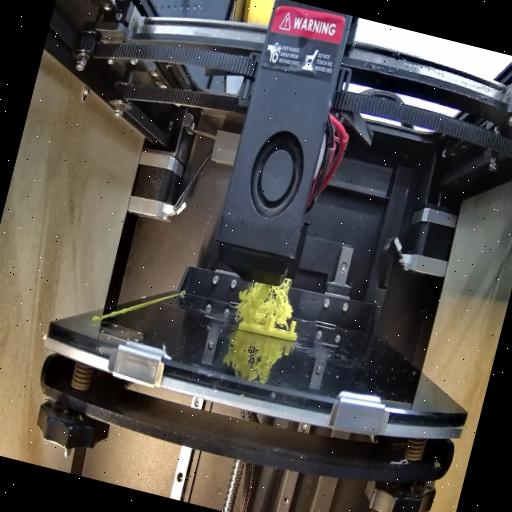spaghetti: (235, 272, 299, 332)
